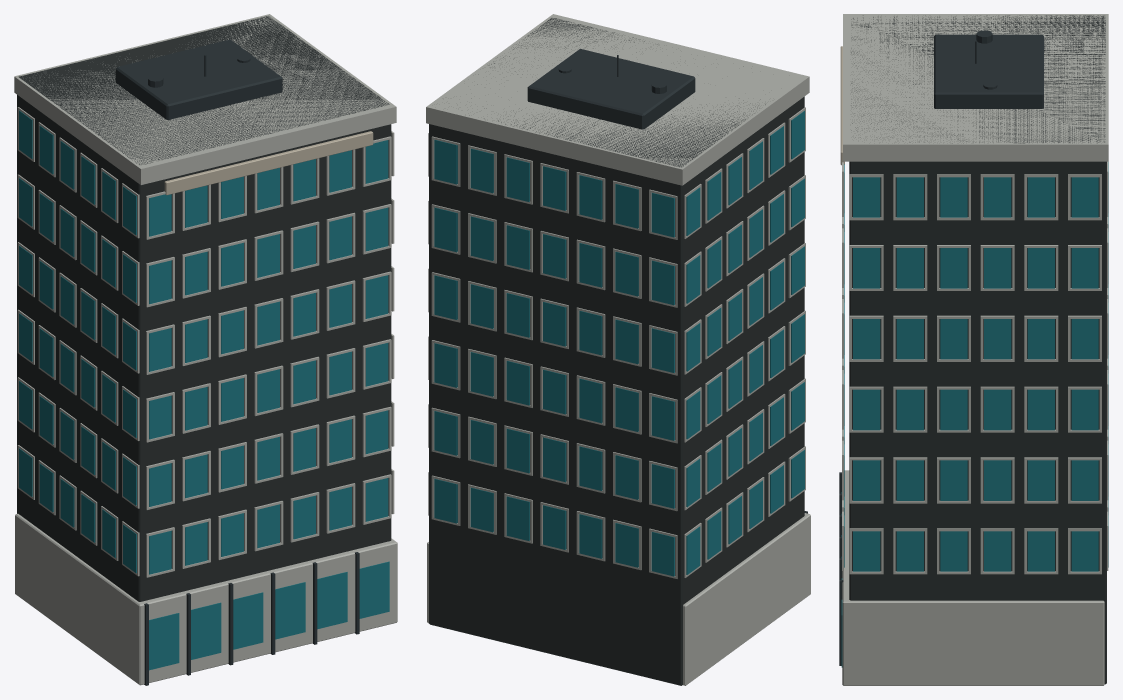
File: JHB_MidRise05_LOD0.fbx
3 views of the same model, side by side, from view 1: azimuth 30°, elevation 25°; view 2: azimuth 150°, elevation 25°; view 3: azimuth 270°, elevation 25° (orthographic). The views are drawn at different scales.
Visible parts, largest first — view 1: JHB_MidRise05_LOD0_FacadeAtlas, JHB_MidRise05_LOD0_Concrete, JHB_MidRise05_LOD0_TealGlass, JHB_MidRise05_LOD0_DarkMetal, JHB_MidRise05_LOD0_BlankSignBand; view 2: JHB_MidRise05_LOD0_FacadeAtlas, JHB_MidRise05_LOD0_Concrete, JHB_MidRise05_LOD0_TealGlass, JHB_MidRise05_LOD0_DarkMetal; view 3: JHB_MidRise05_LOD0_Concrete, JHB_MidRise05_LOD0_FacadeAtlas, JHB_MidRise05_LOD0_TealGlass, JHB_MidRise05_LOD0_DarkMetal.
Part boxes in pixels (left/top/right/bottom): JHB_MidRise05_LOD0_FacadeAtlas: left=17, top=16, right=391, bottom=601; JHB_MidRise05_LOD0_Concrete: left=14, top=14, right=397, bottom=685; JHB_MidRise05_LOD0_TealGlass: left=19, top=110, right=389, bottom=670; JHB_MidRise05_LOD0_DarkMetal: left=115, top=39, right=359, bottom=685; JHB_MidRise05_LOD0_BlankSignBand: left=164, top=131, right=373, bottom=195; JHB_MidRise05_LOD0_FacadeAtlas: left=429, top=18, right=804, bottom=685; JHB_MidRise05_LOD0_Concrete: left=426, top=14, right=810, bottom=685; JHB_MidRise05_LOD0_TealGlass: left=434, top=111, right=804, bottom=576; JHB_MidRise05_LOD0_DarkMetal: left=527, top=48, right=807, bottom=513; JHB_MidRise05_LOD0_Concrete: left=842, top=14, right=1108, bottom=685; JHB_MidRise05_LOD0_FacadeAtlas: left=849, top=15, right=1106, bottom=684; JHB_MidRise05_LOD0_TealGlass: left=841, top=162, right=1108, bottom=667; JHB_MidRise05_LOD0_DarkMetal: left=839, top=30, right=1043, bottom=665.
Bounding box in the file's own units: 10.75 × 21.95 × 9.25.
Materials: 5 (1 with a texture image).
